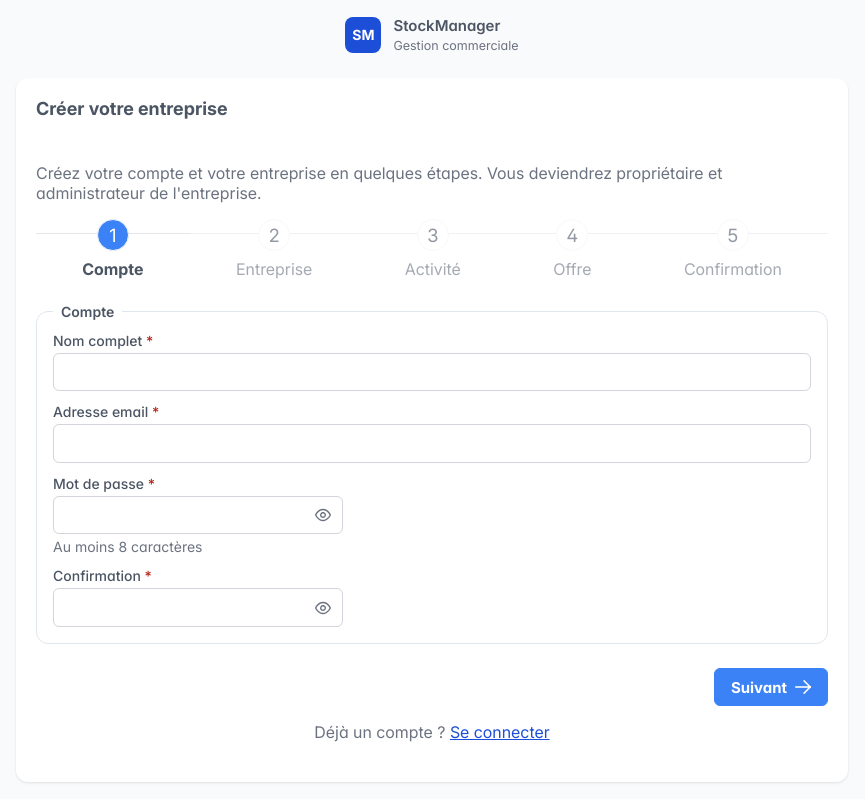
inscription publique › valide chaque étape avant de continuer
Expected: the field labelled "Nom complet" is shown, [53,352,811,391]
Click the button "Suivant": (771, 687) [714,668,828,706]
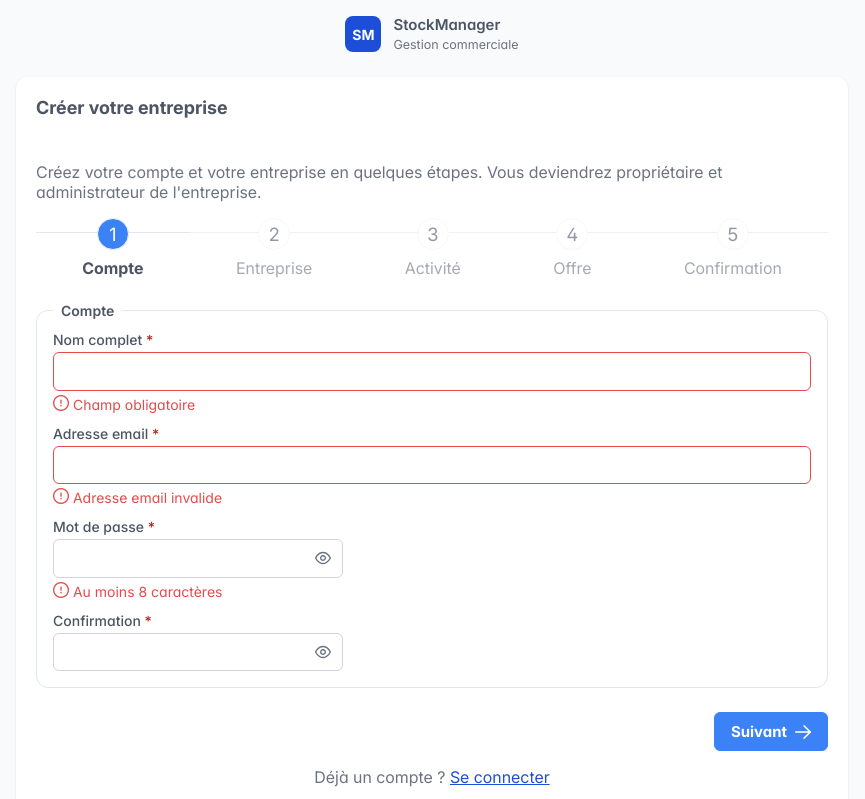
In the field labelled "Nom complet": (432, 371) [53,352,811,391], type "Awa"
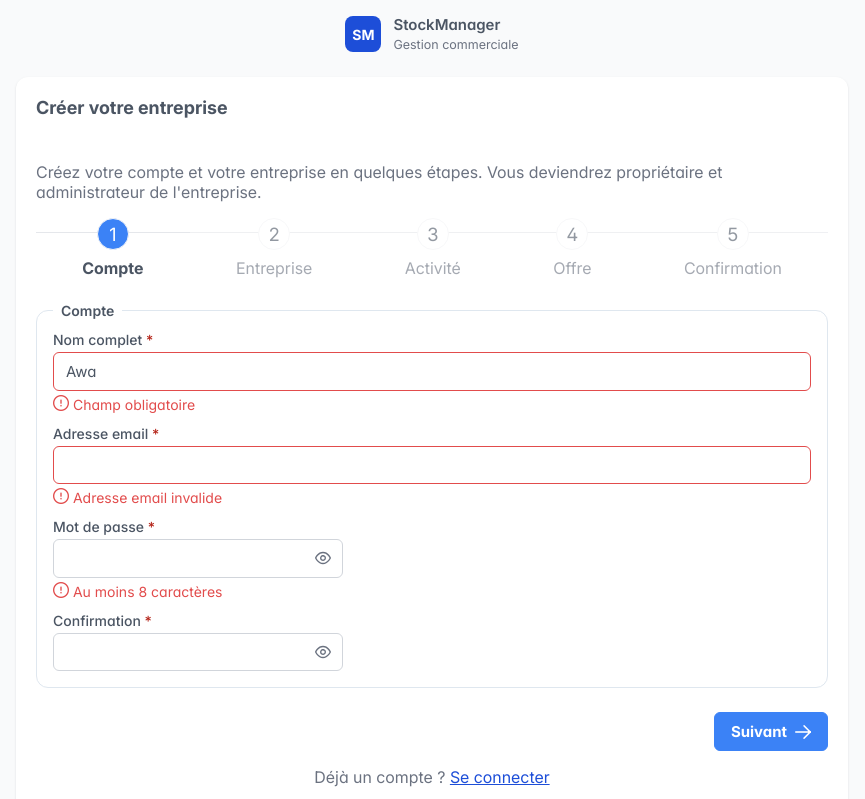
In the field labelled "Adresse email": (432, 465) [53,446,811,484], type "awa@example.com"
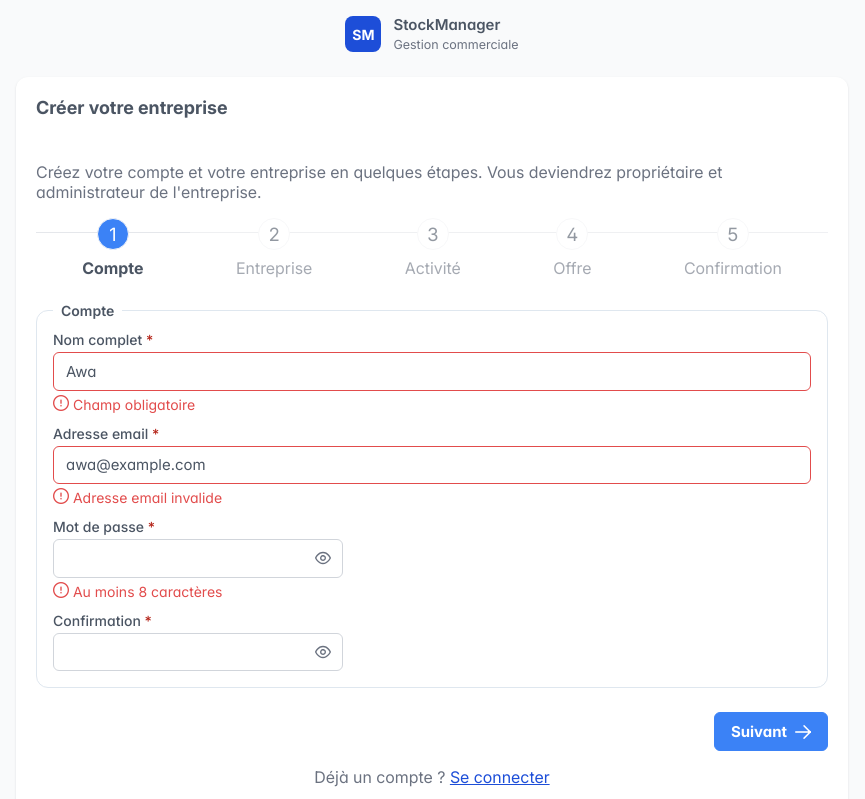
In the password field labelled "Mot de passe *": (198, 558) [53,539,343,578], type "Motdepasse-1"
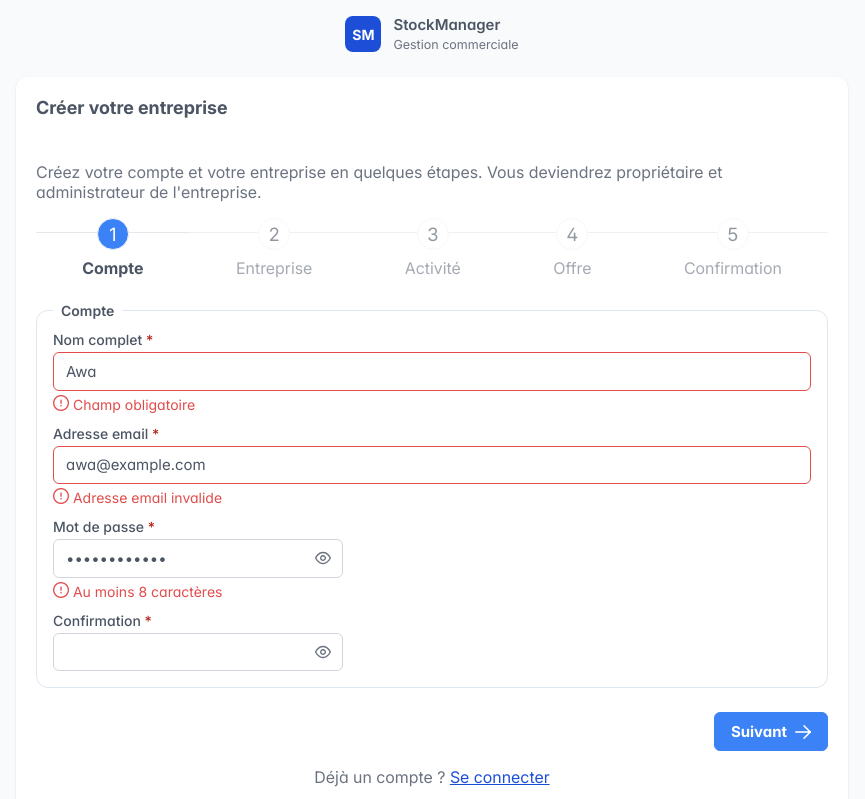
In the password field with id "confirm": (198, 652) [53,633,343,671], type "Autre-mot-2"
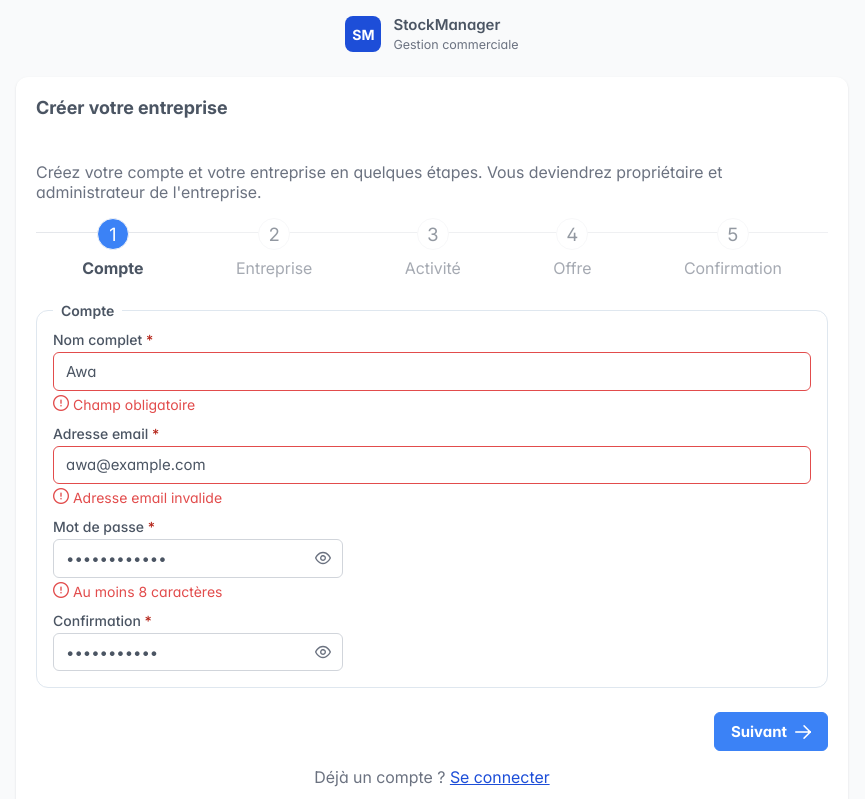
Click the button "Suivant": (771, 732) [714,712,828,751]
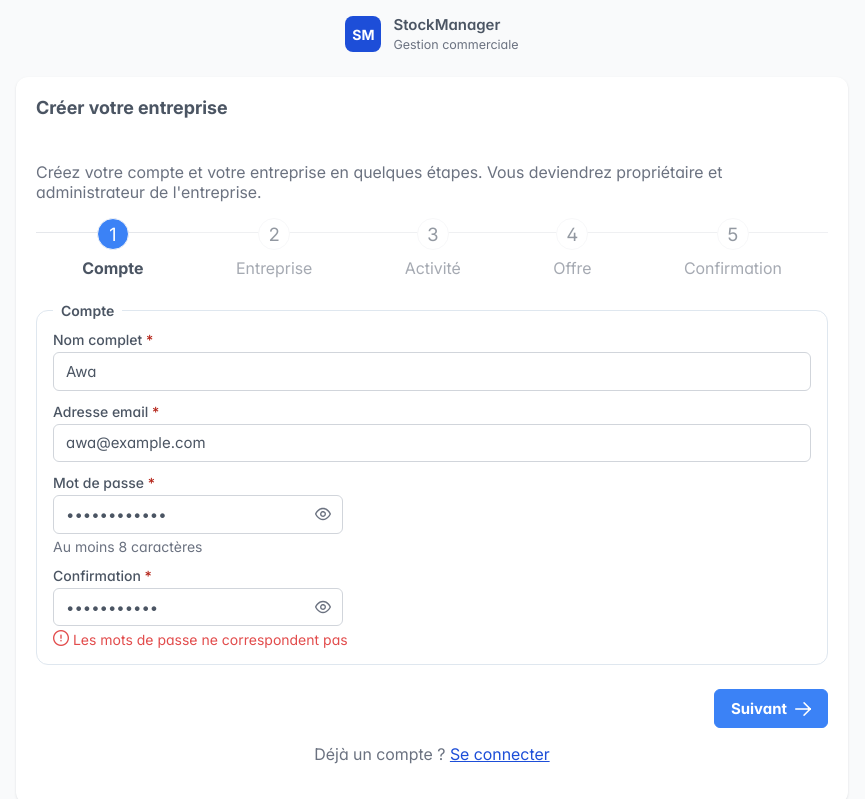
Expected: the text "Les mots de passe ne correspondent pas" is shown, [53,630,348,648]
